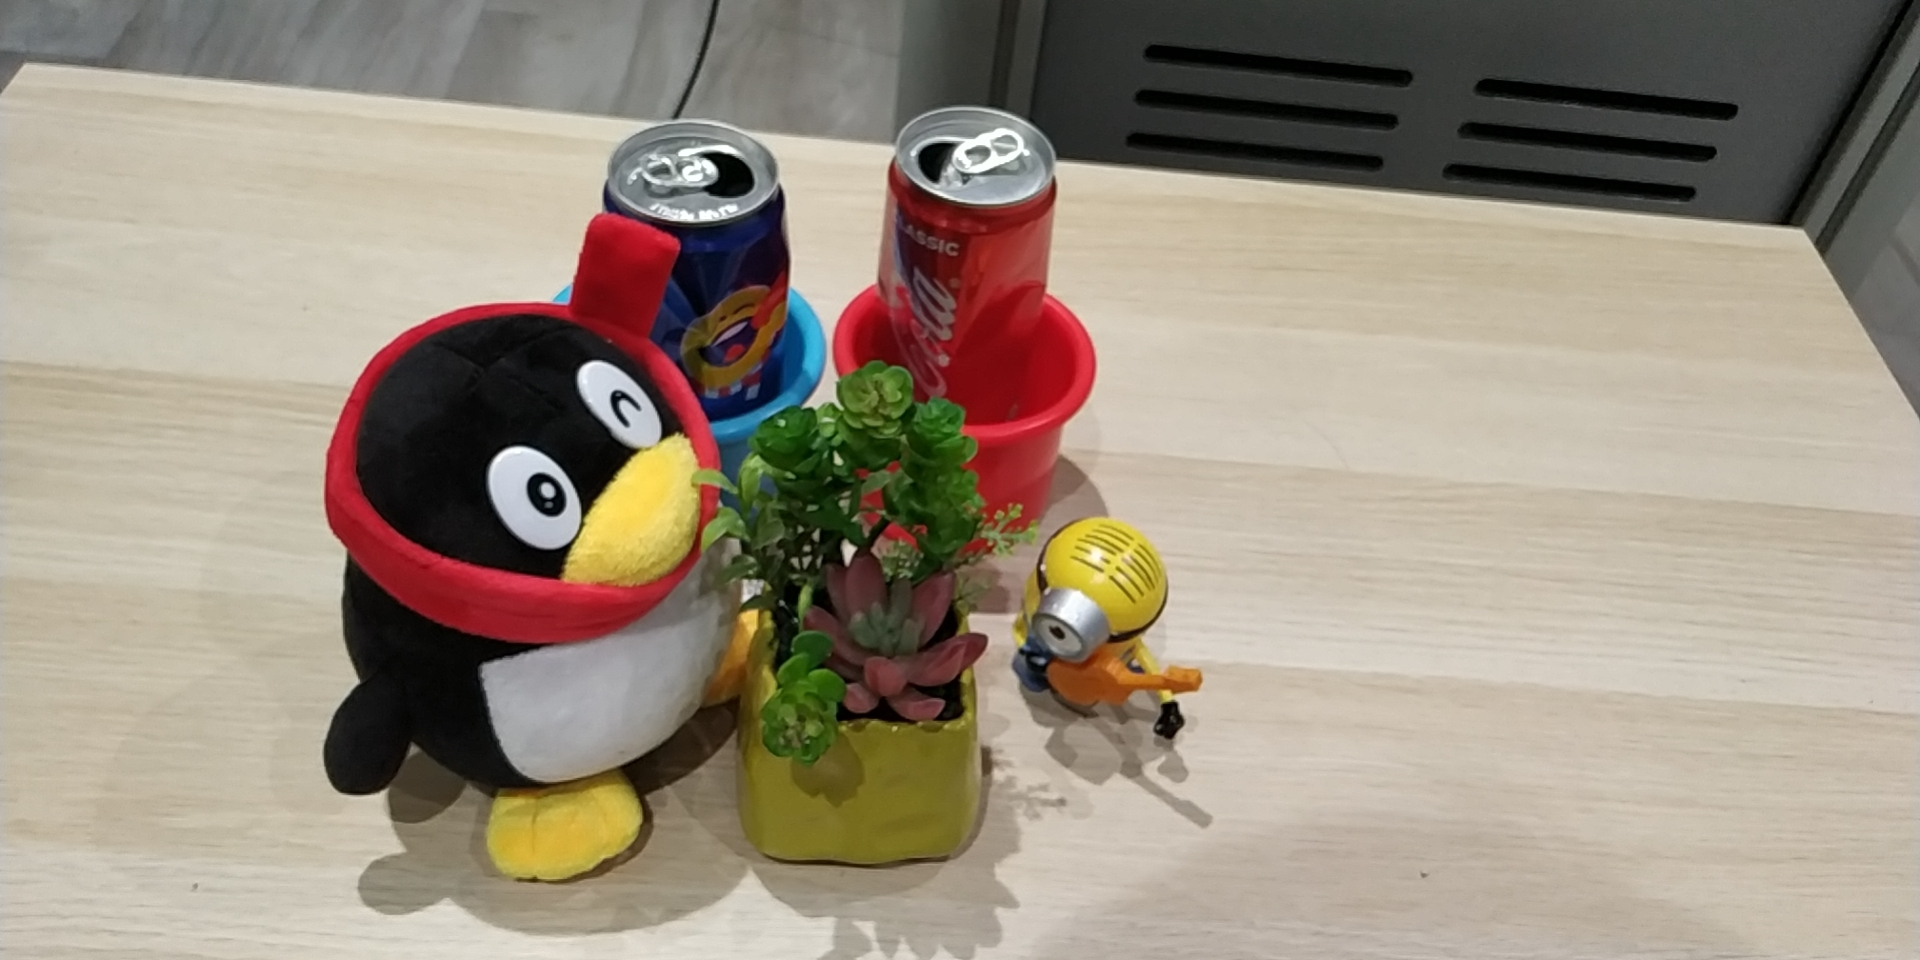can: (599, 119, 782, 416), (884, 107, 1044, 429)
cup: (834, 276, 1078, 555), (549, 280, 828, 516)
plant: (700, 364, 1038, 866)
toy: (316, 305, 774, 880), (1016, 517, 1202, 744)
